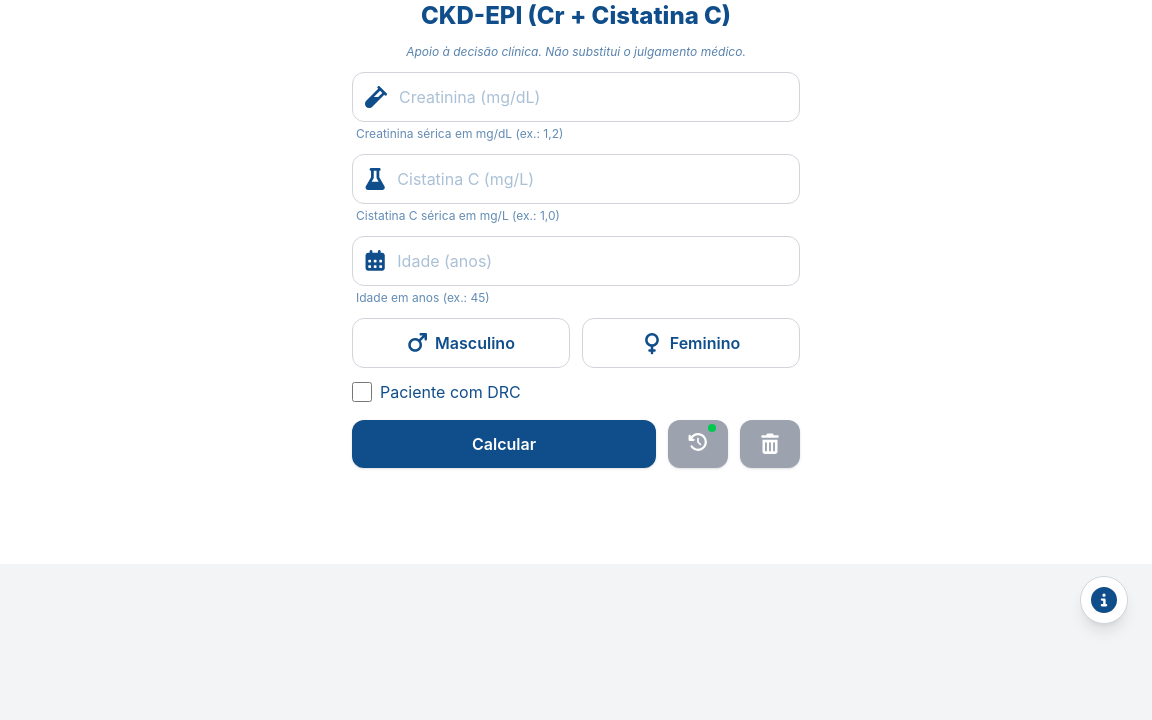
Test case: CKD-EPI Creatinina + Cistatina C (interface) › CYS-3: recarregar rotula o valor absoluto guardado pelo CKD-EPI
Click the button named "Recarregar último resultado": (698, 444) [668,420,728,468]
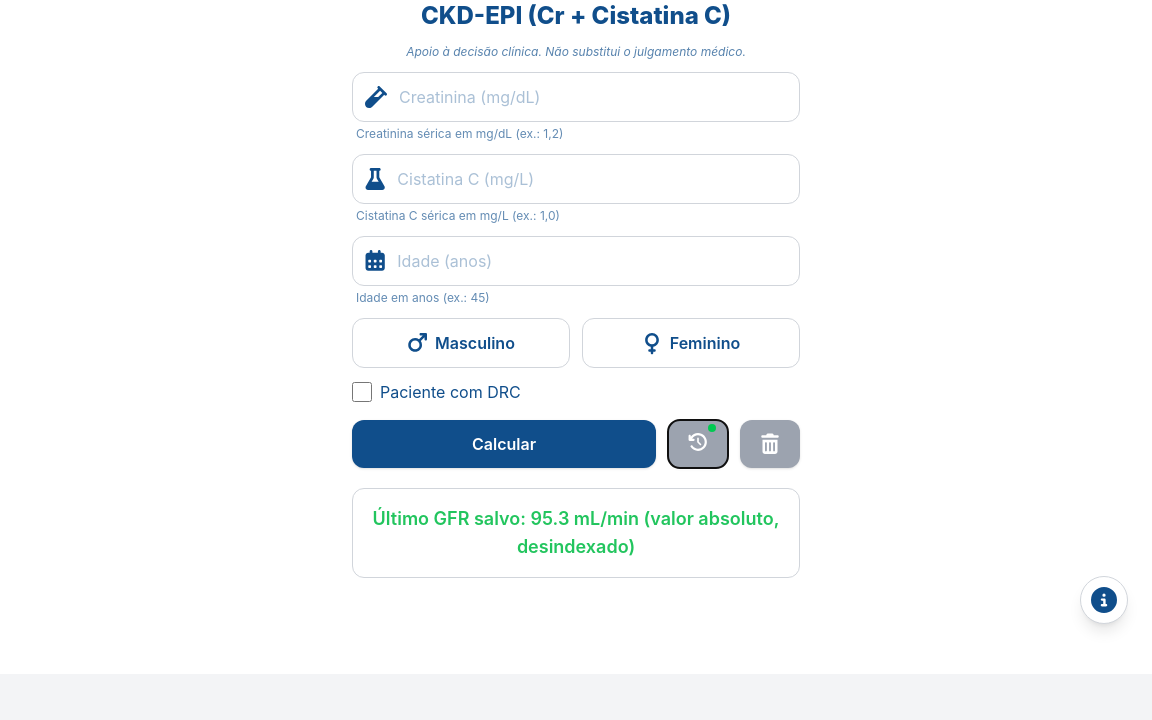
Expected: the message reads "Último GFR salvo: 95.3 mL/min (valor absoluto, desindexado)", [373,508,779,557]
